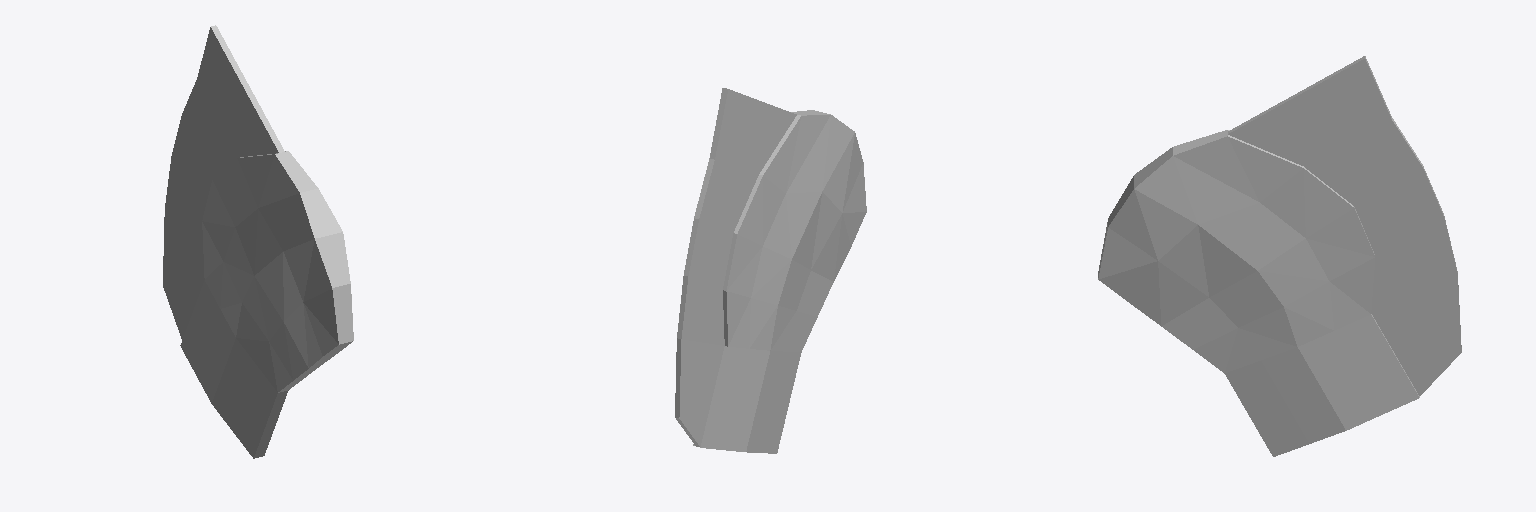
File: backwing.obj
The picture shows the model from 3 angles: view 1: azimuth 30°, elevation 25°; view 2: azimuth 150°, elevation 25°; view 3: azimuth 270°, elevation 25°; orthographic projection.
Size of the model in its own units: 0.0482 by 0.6432 by 0.5325.